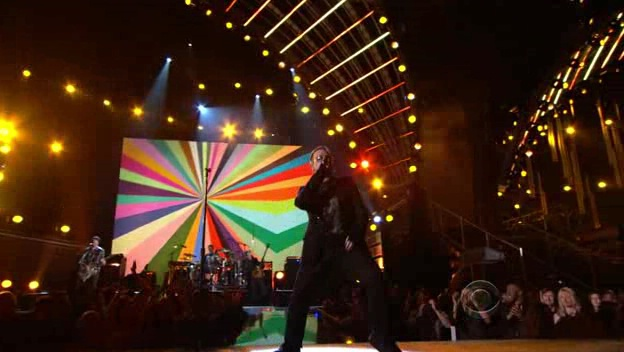person: (297, 146, 364, 267), (294, 146, 361, 267), (300, 146, 367, 267), (297, 143, 364, 264), (297, 149, 364, 270)
target_negative: (395, 17, 481, 305), (85, 281, 214, 316), (437, 9, 482, 87), (214, 308, 344, 334), (299, 113, 413, 124), (582, 114, 590, 225)
